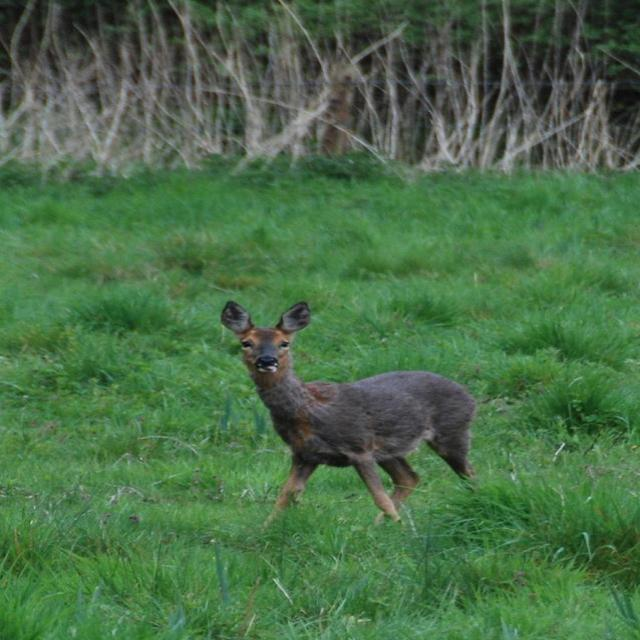Deer: (220, 300, 480, 533)
